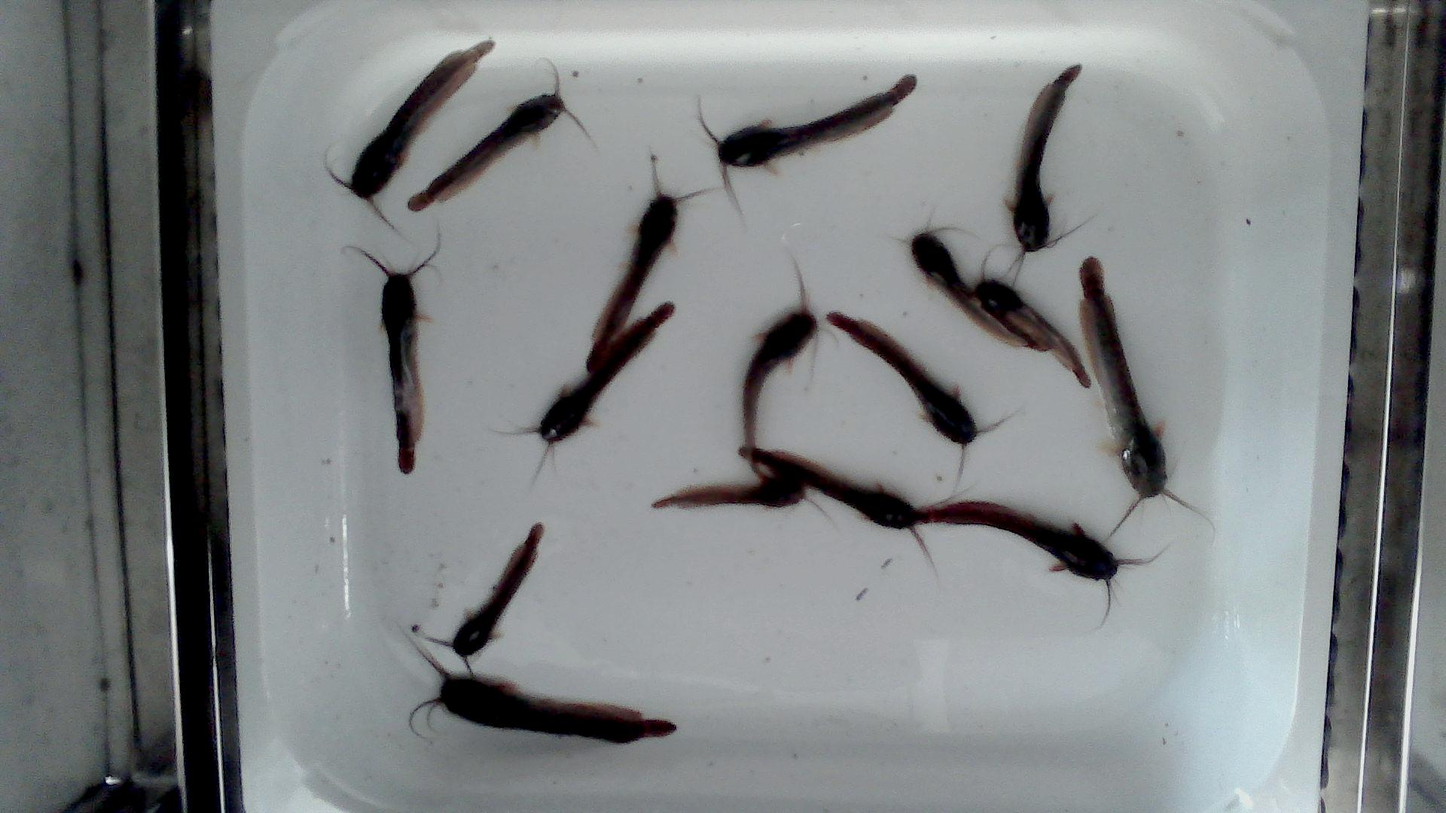lele: (506, 300, 677, 484), (585, 155, 726, 373), (737, 444, 938, 574), (347, 41, 493, 199), (1081, 257, 1167, 497), (828, 312, 978, 445), (912, 218, 1052, 355), (714, 75, 916, 167), (409, 94, 564, 209), (434, 671, 676, 743), (923, 501, 1140, 580), (972, 261, 1092, 394), (1010, 65, 1081, 251), (367, 254, 426, 473), (450, 524, 544, 657), (742, 306, 817, 463), (652, 465, 805, 508)
